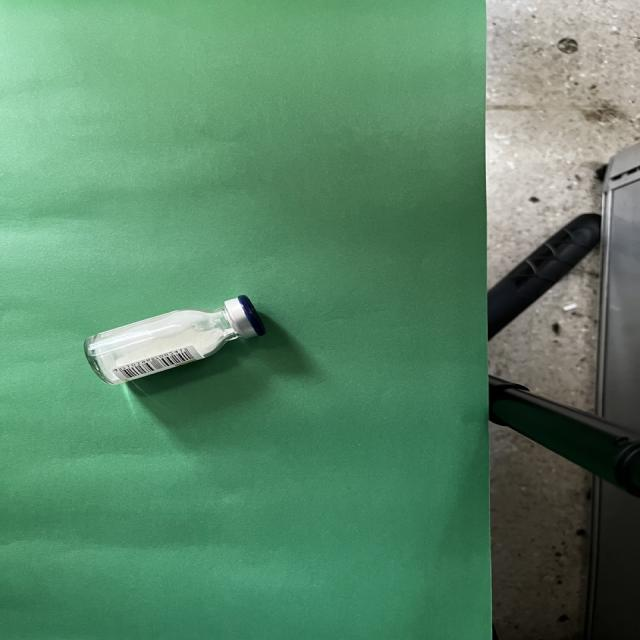Vials: (85, 295, 266, 385)
